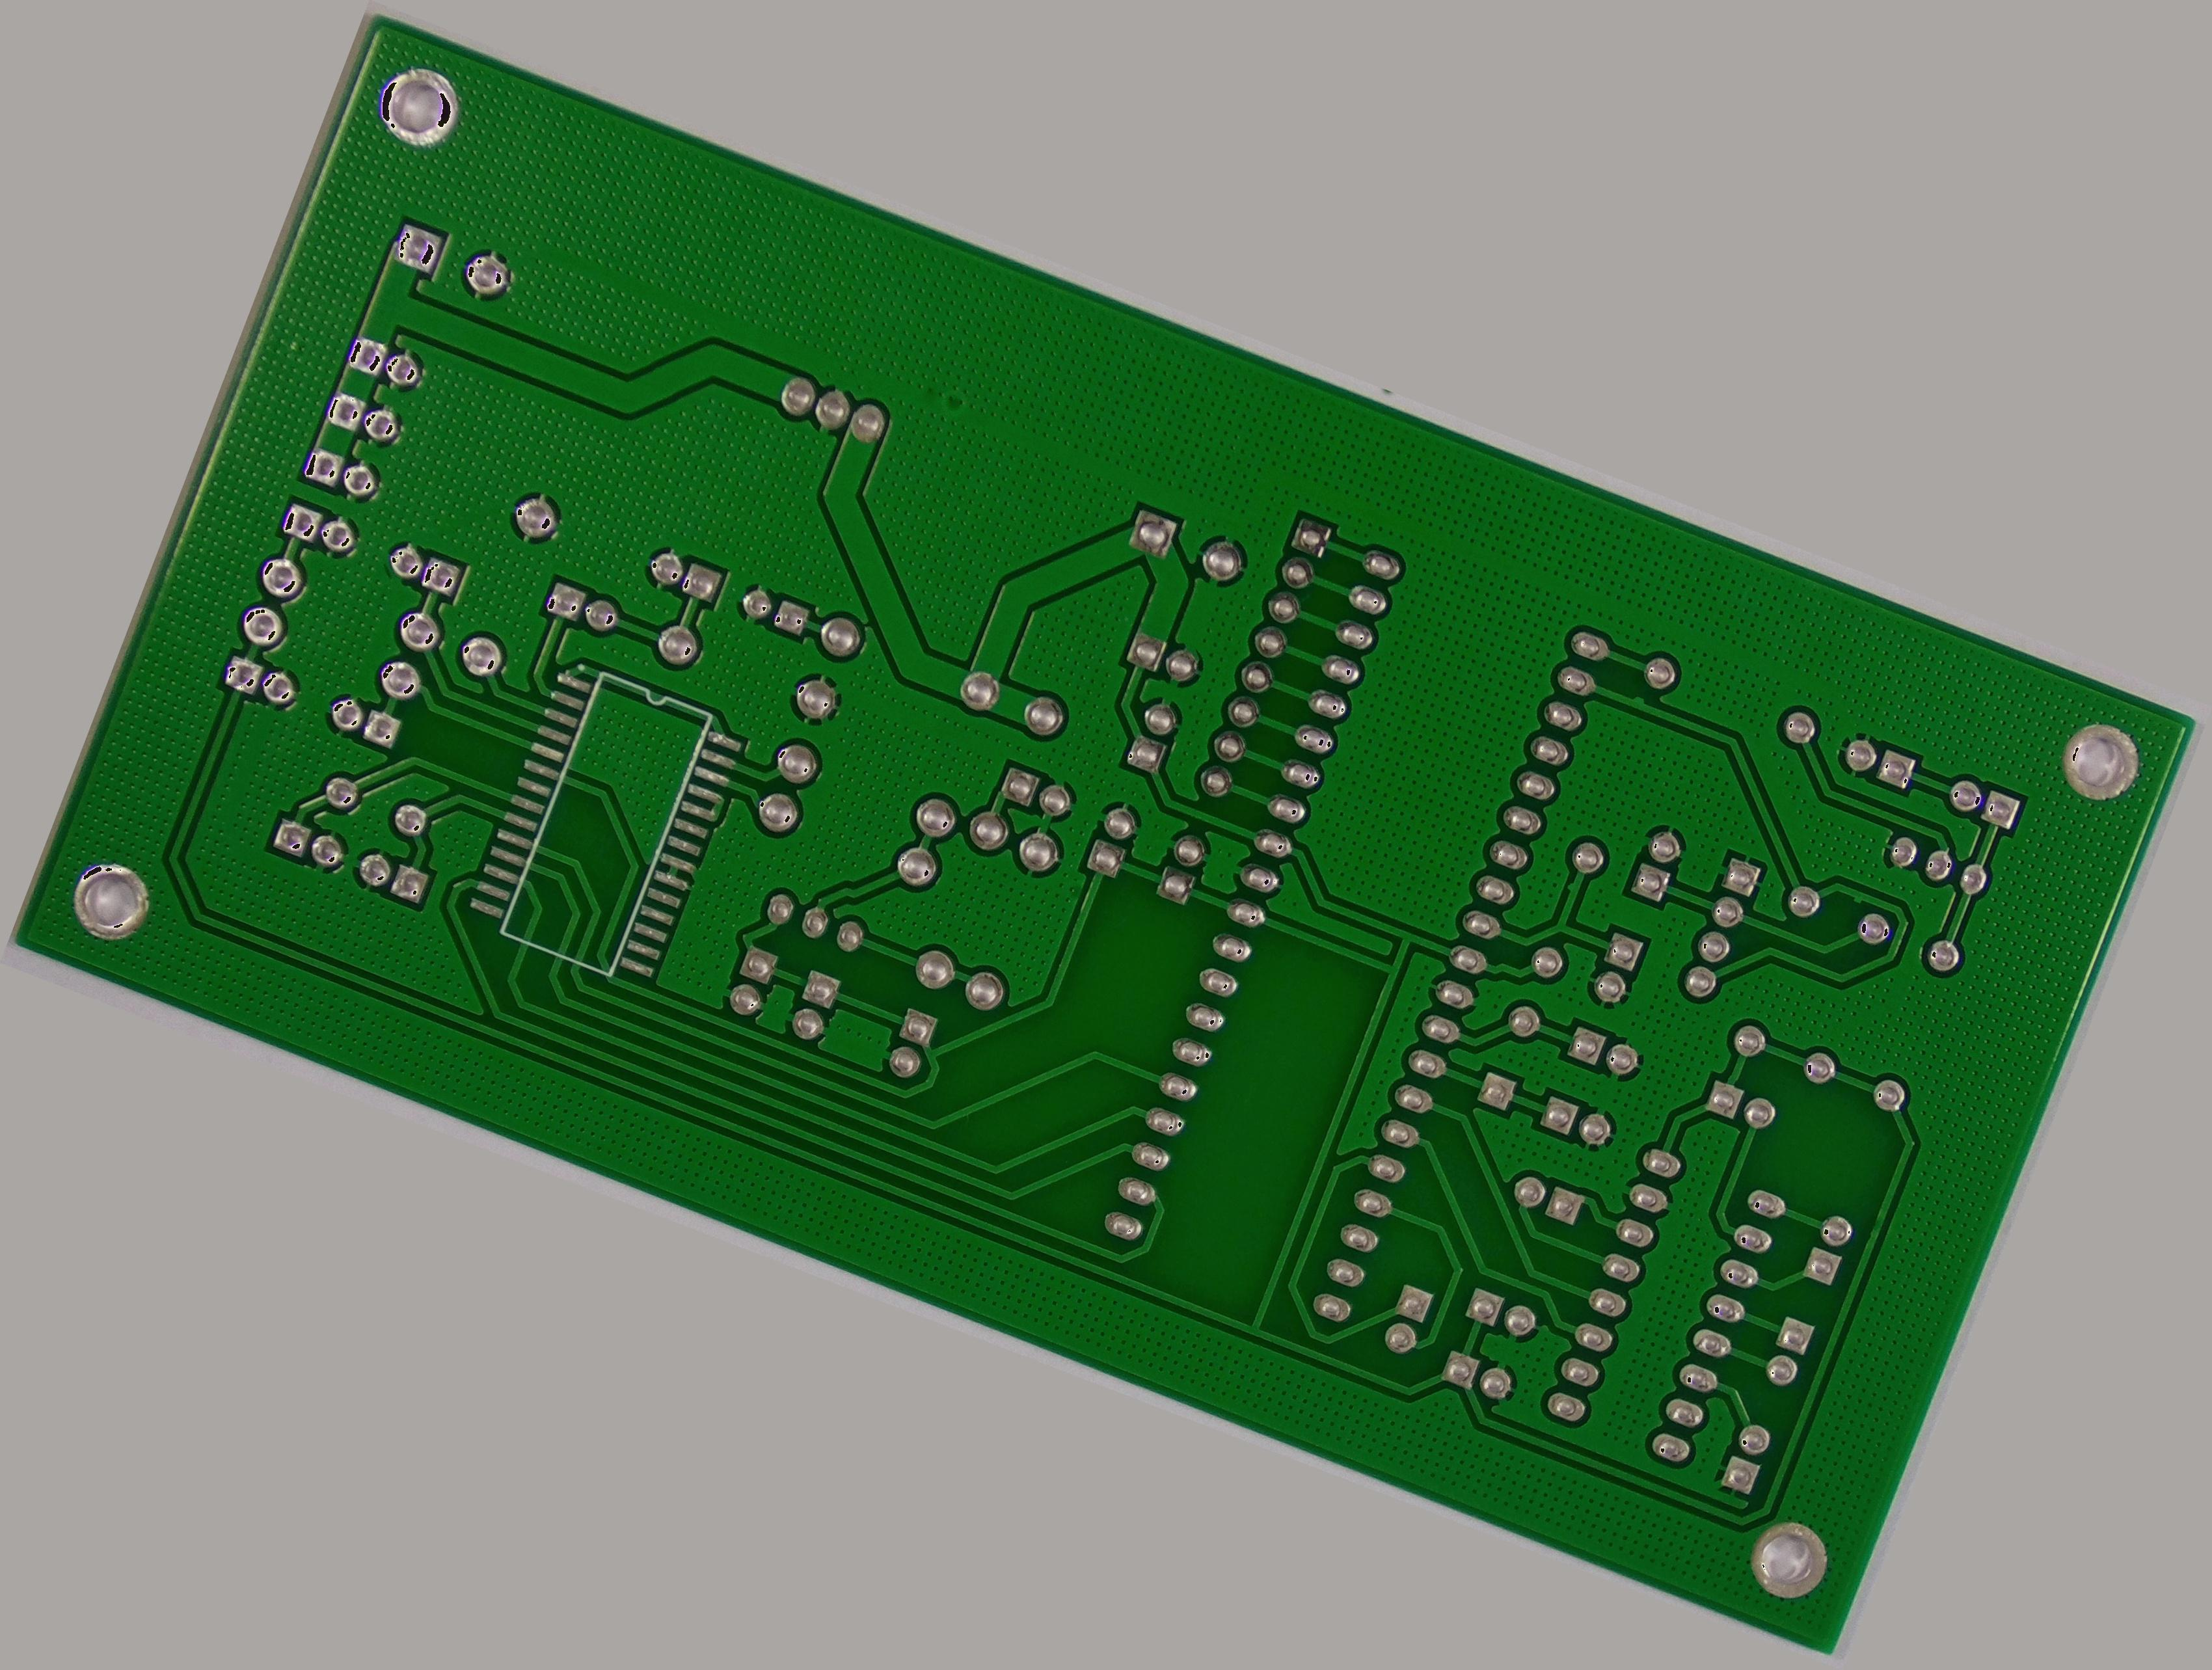spur: (1617, 682, 1656, 717), (1558, 870, 1591, 905), (1844, 881, 1875, 912)
